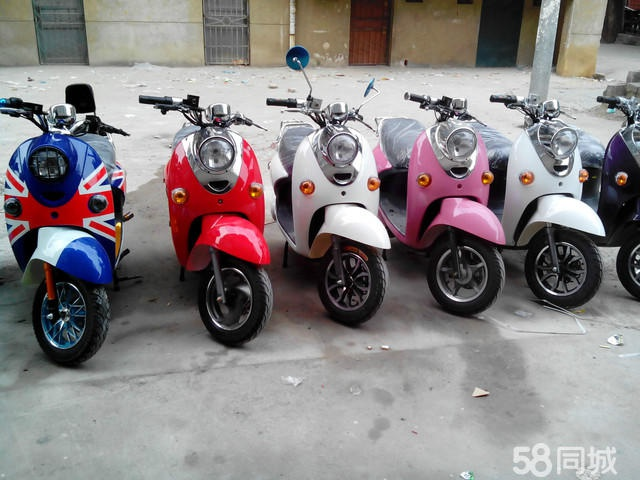non-vehicle: (0, 79, 127, 367), (143, 94, 272, 347), (268, 87, 392, 328), (386, 87, 506, 315), (510, 92, 597, 313), (596, 91, 640, 301)
